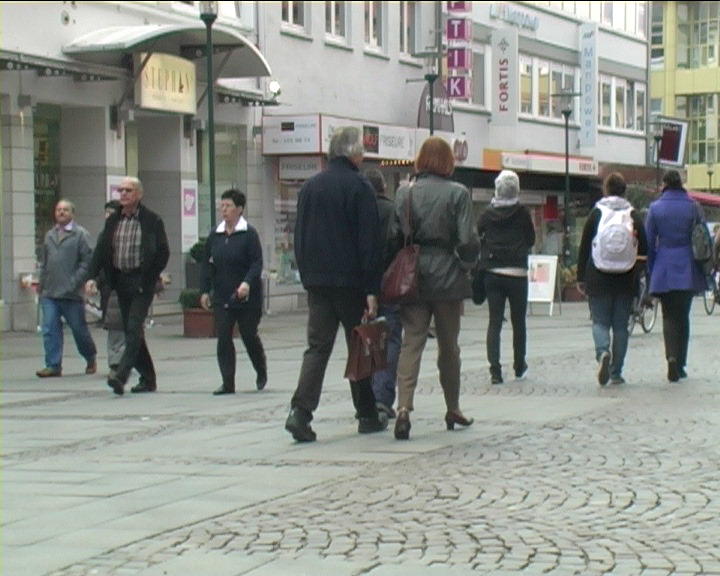undeflect: (404, 143, 466, 219), (98, 178, 160, 245), (205, 189, 258, 251)
